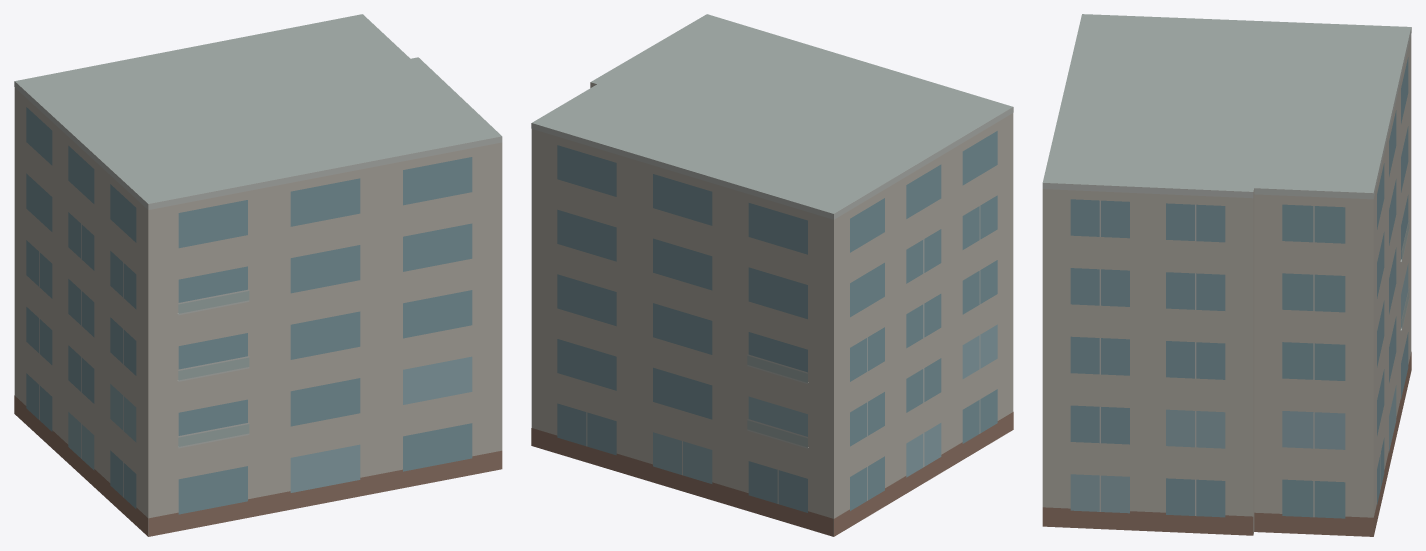
The model's file is survey-upis-32662556.glb.
3 renders of one model, left to right at view 1: azimuth 30°, elevation 25°; view 2: azimuth 150°, elevation 25°; view 3: azimuth 270°, elevation 25°, orthographic. The views are drawn at different scales.
Visible parts, largest first — view 1: survey-upis-32662556.tmp; view 2: survey-upis-32662556.tmp; view 3: survey-upis-32662556.tmp.
Part boxes in pixels (left/top/right/bottom): survey-upis-32662556.tmp: left=14, top=14, right=502, bottom=536; survey-upis-32662556.tmp: left=531, top=14, right=1013, bottom=536; survey-upis-32662556.tmp: left=1042, top=14, right=1411, bottom=536.
Size of the model in its own units: 14.99 by 13.4 by 13.04.
